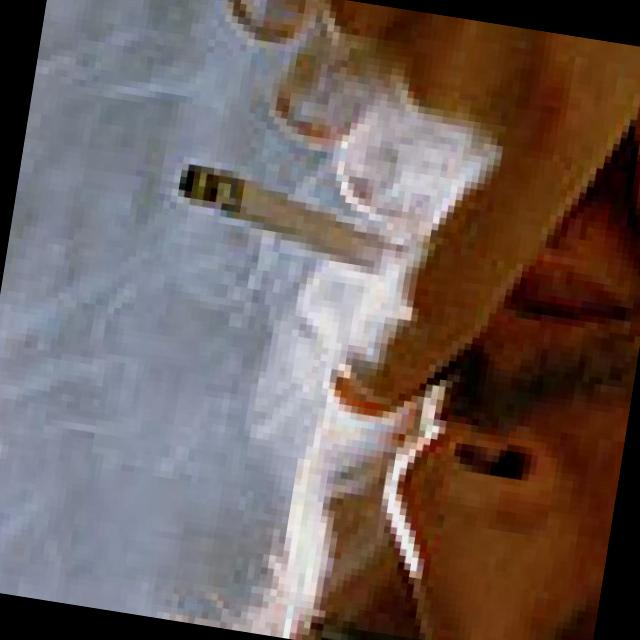cigarette: (168, 164, 404, 290)
